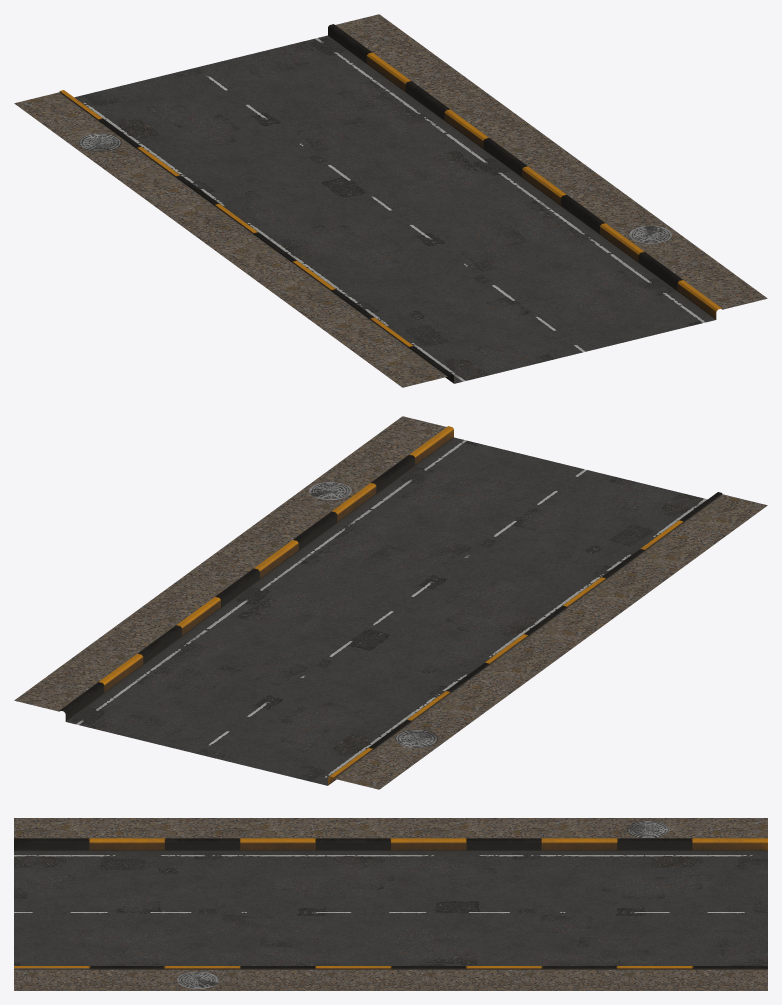
The model's file is road__avenue__street.glb.
3 views of the same model, one above another, from view 1: azimuth 30°, elevation 25°; view 2: azimuth 150°, elevation 25°; view 3: azimuth 270°, elevation 25° (orthographic). The views are drawn at different scales.
Parts seen in each view (by area): view 1: Object_2; view 2: Object_2; view 3: Object_2.
Boxes of the visible parts, bbox=[...] form: Object_2: bbox=[14, 14, 767, 387]; Object_2: bbox=[14, 416, 767, 789]; Object_2: bbox=[14, 818, 767, 990].
Size of the model in its own units: 543 by 14.11 by 1000.
Materials: 1 (1 with a texture image).
